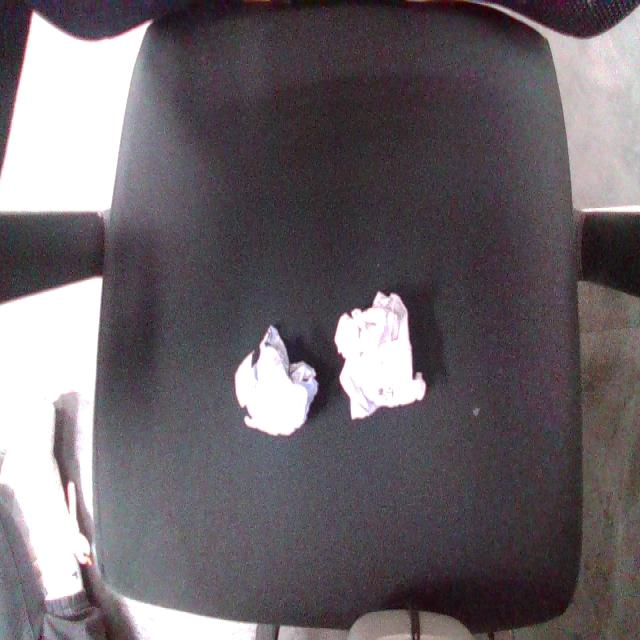paper: (306, 275, 437, 435), (228, 310, 325, 446)
